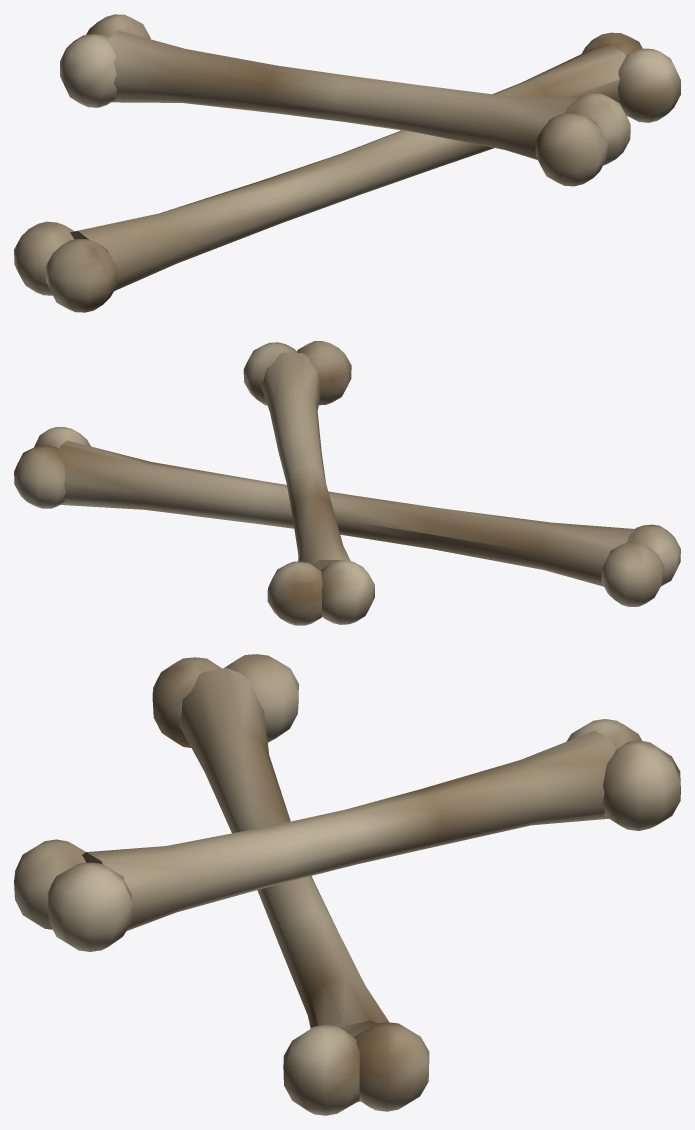
Rendered from bone.glb.
3 views of the same model, one above another, from view 1: azimuth 30°, elevation 25°; view 2: azimuth 150°, elevation 25°; view 3: azimuth 270°, elevation 25° (orthographic). The views are drawn at different scales.
Visible parts, largest first — view 1: bone; view 2: bone; view 3: bone.
Part boxes in pixels (<box>): bone: <box>14,14,680,312</box>; bone: <box>14,341,680,625</box>; bone: <box>14,654,680,1115</box>.
Bounding box in the file's own units: 0.3432 × 0.0622 × 0.2364.
